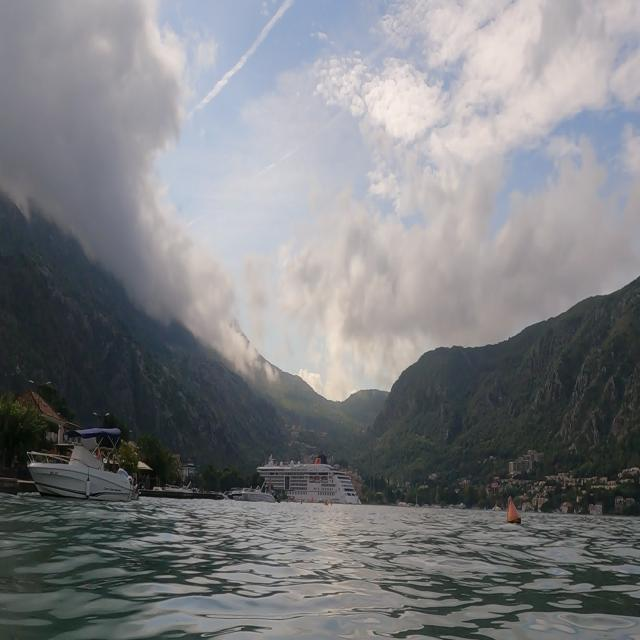boat: (26, 423, 140, 506), (250, 442, 371, 517), (227, 474, 280, 509)
buoy: (503, 492, 528, 534)
